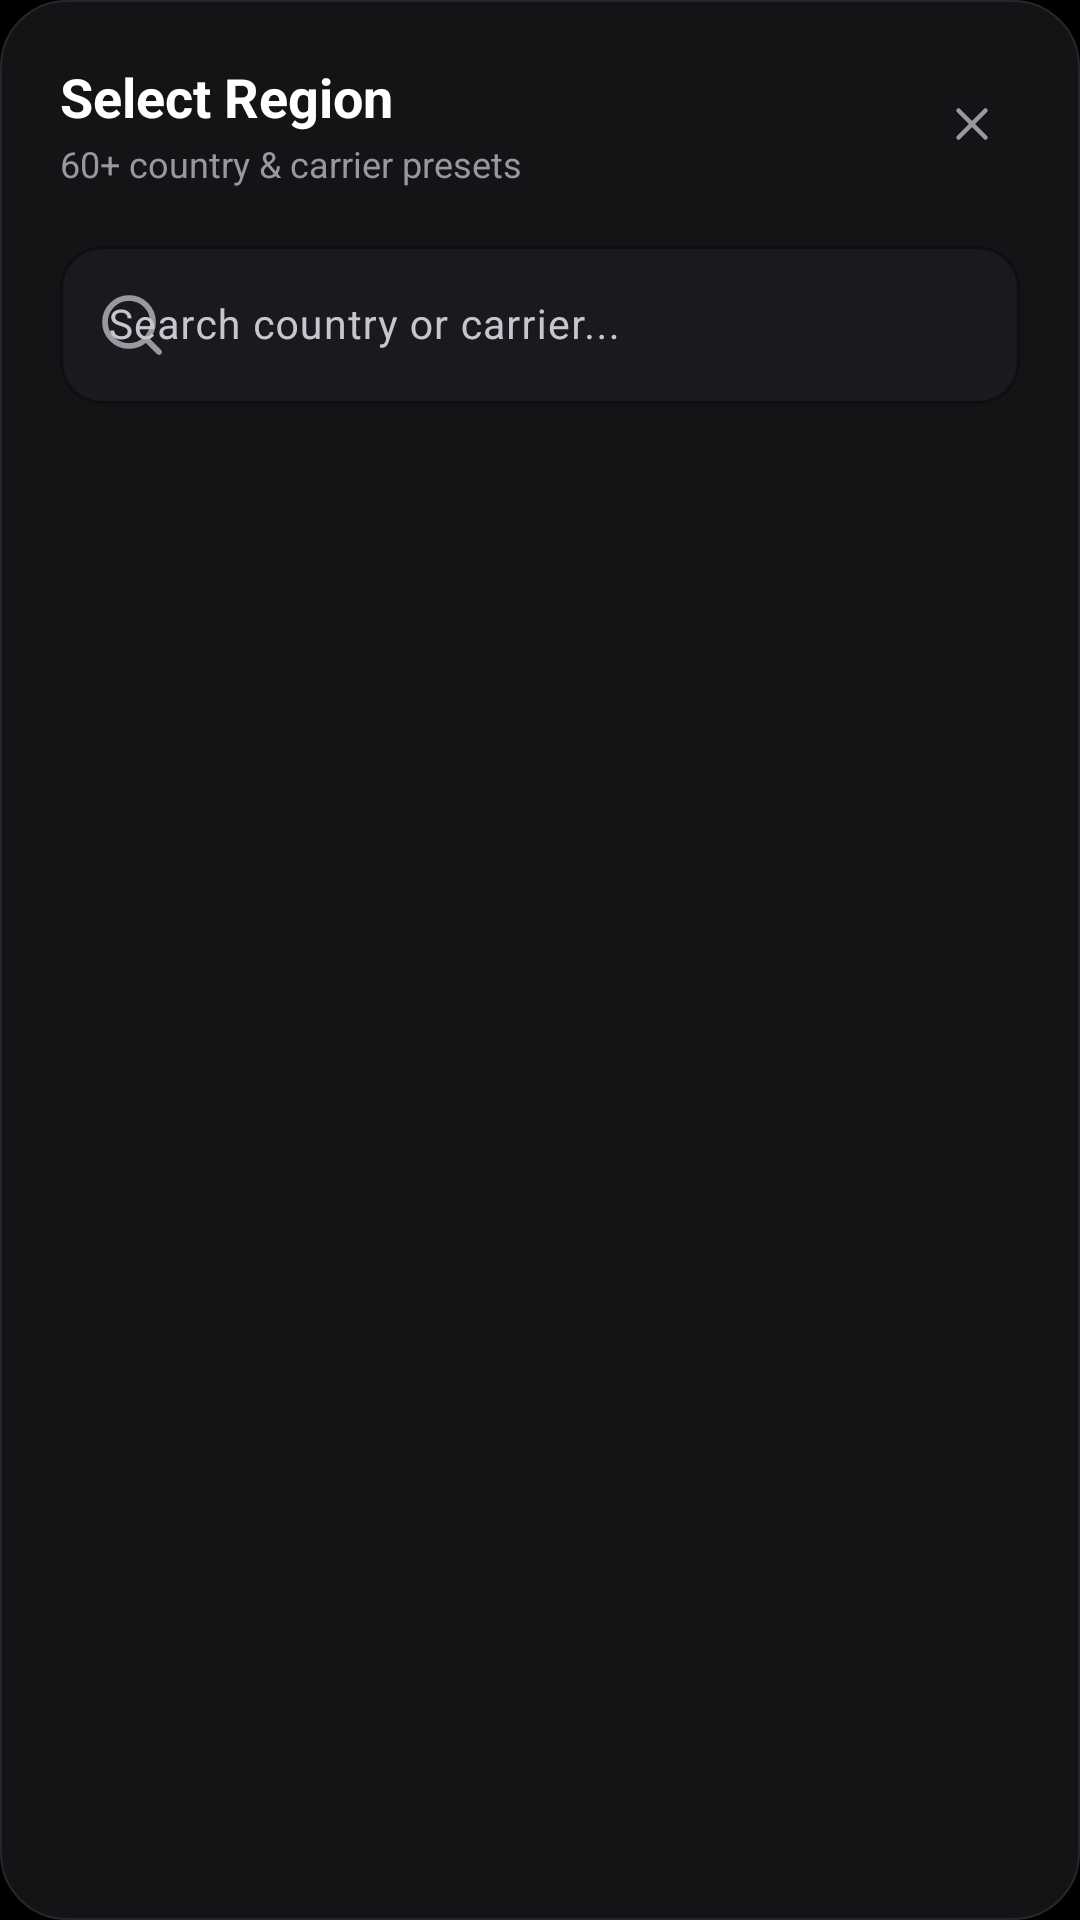

Named icons in this screenshot (1080px×1920px) and their centers, [x,y]:
close: [972,124]
